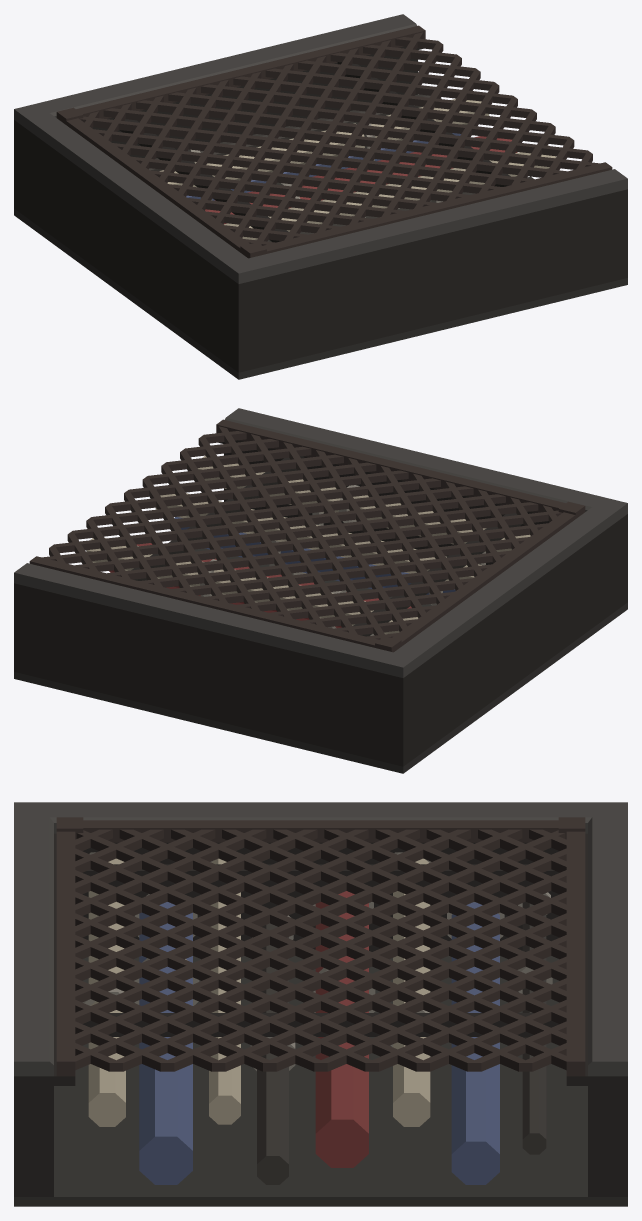
File: FloorGrateOpenR.fbx
3 renders of one model, top to bottom at view 1: azimuth 30°, elevation 25°; view 2: azimuth 150°, elevation 25°; view 3: azimuth 270°, elevation 25°, orthographic. The views are drawn at different scales.
Parts seen in each view (by area): view 1: FloorGrateOpenR_Grate, FloorGrateOpenR_Liner, FloorGrateOpenR_Frame, FloorGrateOpenR_PitFloor, FloorGrateOpenR_PipeCream, FloorGrateOpenR_PipeRed, FloorGrateOpenR_PipeDark; view 2: FloorGrateOpenR_Grate, FloorGrateOpenR_Liner, FloorGrateOpenR_Frame, FloorGrateOpenR_PitFloor, FloorGrateOpenR_PipeCream, FloorGrateOpenR_PipeBlue; view 3: FloorGrateOpenR_Grate, FloorGrateOpenR_PitFloor, FloorGrateOpenR_Frame, FloorGrateOpenR_Liner, FloorGrateOpenR_PipeBlue, FloorGrateOpenR_PipeCream, FloorGrateOpenR_PipeDark, FloorGrateOpenR_PipeRed, FloorGrateOpenR_Fittings.
Boxes of the visible parts, x1,y1,x2,y2 form: FloorGrateOpenR_Grate: (56, 25, 612, 258); FloorGrateOpenR_Liner: (14, 46, 627, 372); FloorGrateOpenR_Frame: (14, 14, 627, 283); FloorGrateOpenR_PitFloor: (14, 192, 627, 379); FloorGrateOpenR_PipeCream: (159, 99, 556, 240); FloorGrateOpenR_PipeRed: (205, 136, 517, 224); FloorGrateOpenR_PipeDark: (148, 94, 533, 241); FloorGrateOpenR_Grate: (29, 419, 585, 652); FloorGrateOpenR_Liner: (14, 440, 627, 766); FloorGrateOpenR_Frame: (14, 408, 627, 677); FloorGrateOpenR_PitFloor: (14, 548, 627, 773); FloorGrateOpenR_PipeCream: (86, 455, 530, 634); FloorGrateOpenR_PipeBlue: (174, 517, 455, 594); FloorGrateOpenR_Grate: (56, 817, 585, 1076); FloorGrateOpenR_PitFloor: (14, 956, 627, 1206); FloorGrateOpenR_Frame: (14, 802, 627, 1076); FloorGrateOpenR_Liner: (14, 833, 627, 1196); FloorGrateOpenR_PipeBlue: (139, 902, 499, 1184); FloorGrateOpenR_PipeCream: (88, 858, 430, 1126); FloorGrateOpenR_PipeDark: (257, 901, 546, 1184); FloorGrateOpenR_PipeRed: (315, 891, 368, 1167); FloorGrateOpenR_Fittings: (82, 852, 552, 1070).
Size of the model in its own units: 11.5 by 3.06 by 11.5.
